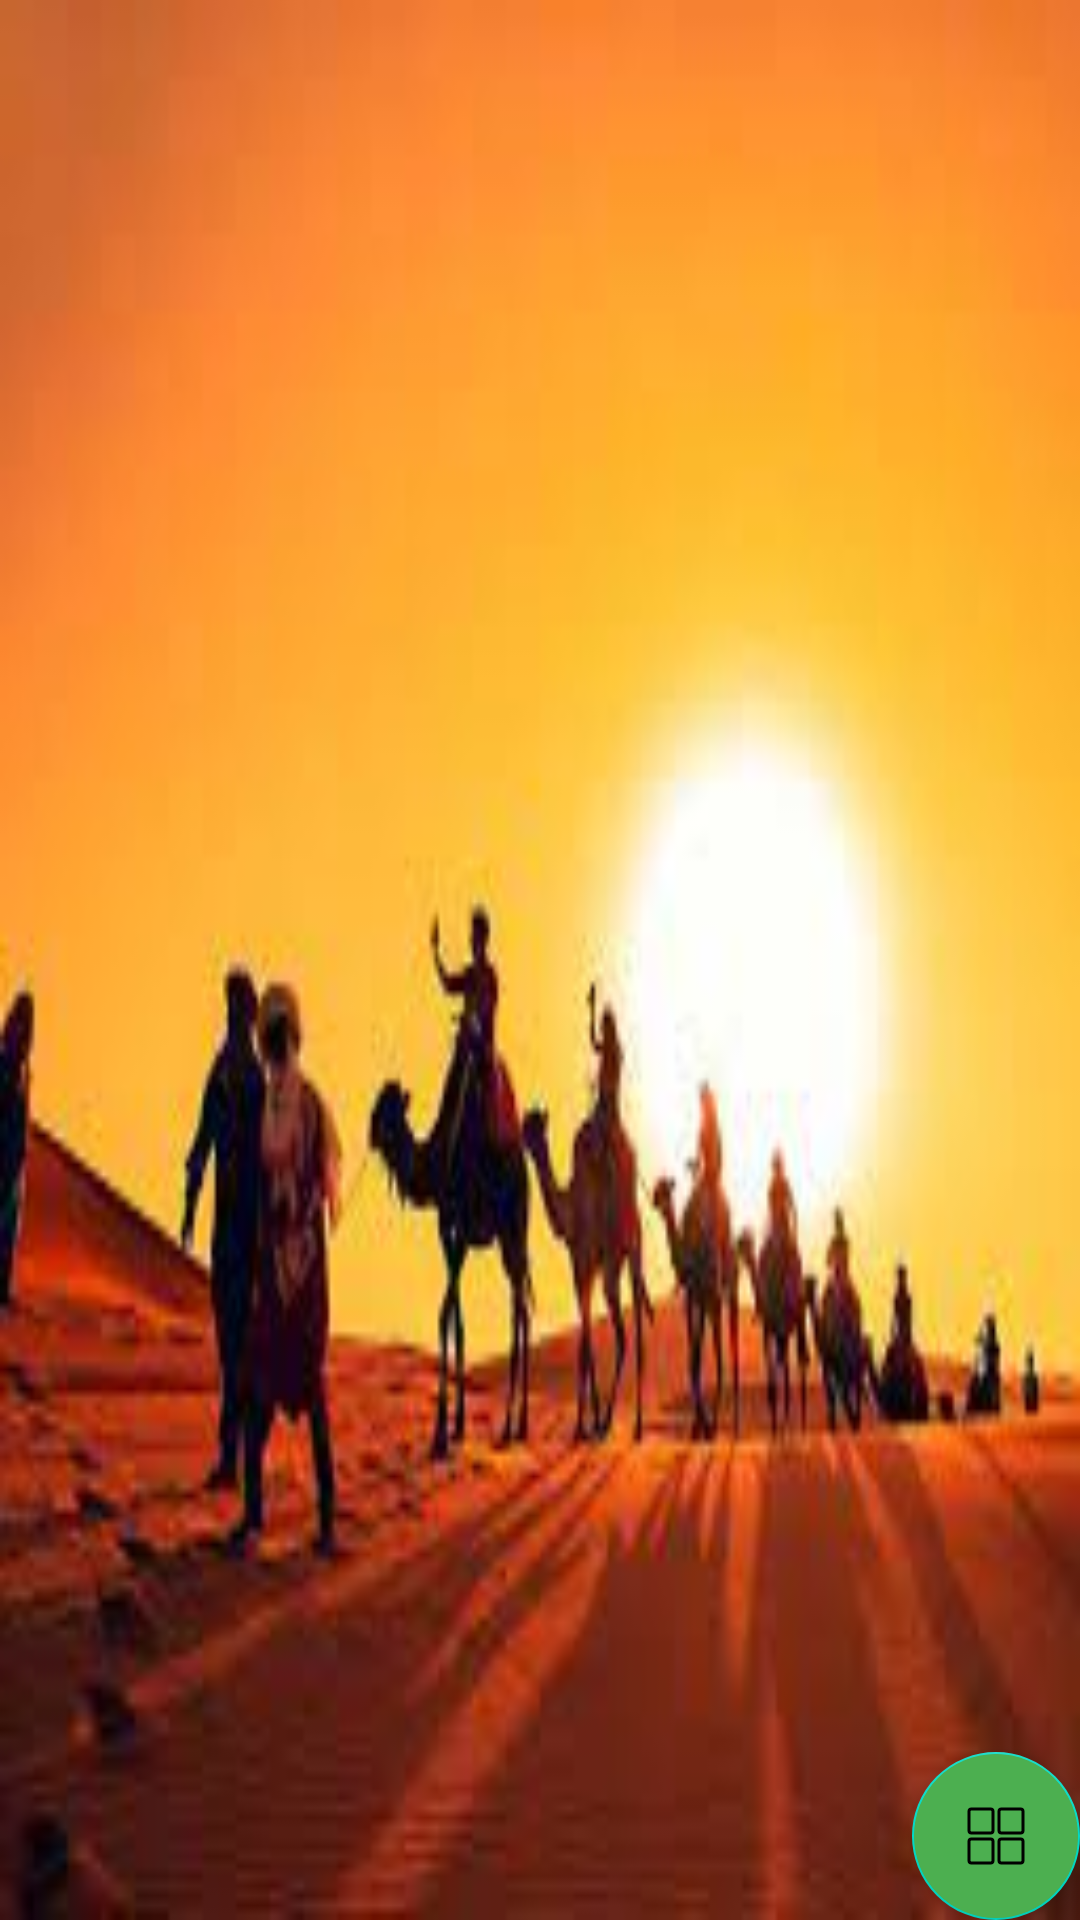

Screen size 1080w x 1920h. Icon name, then its center in pixels as point (x, y):
apps mobile phone app: point (996, 1836)
